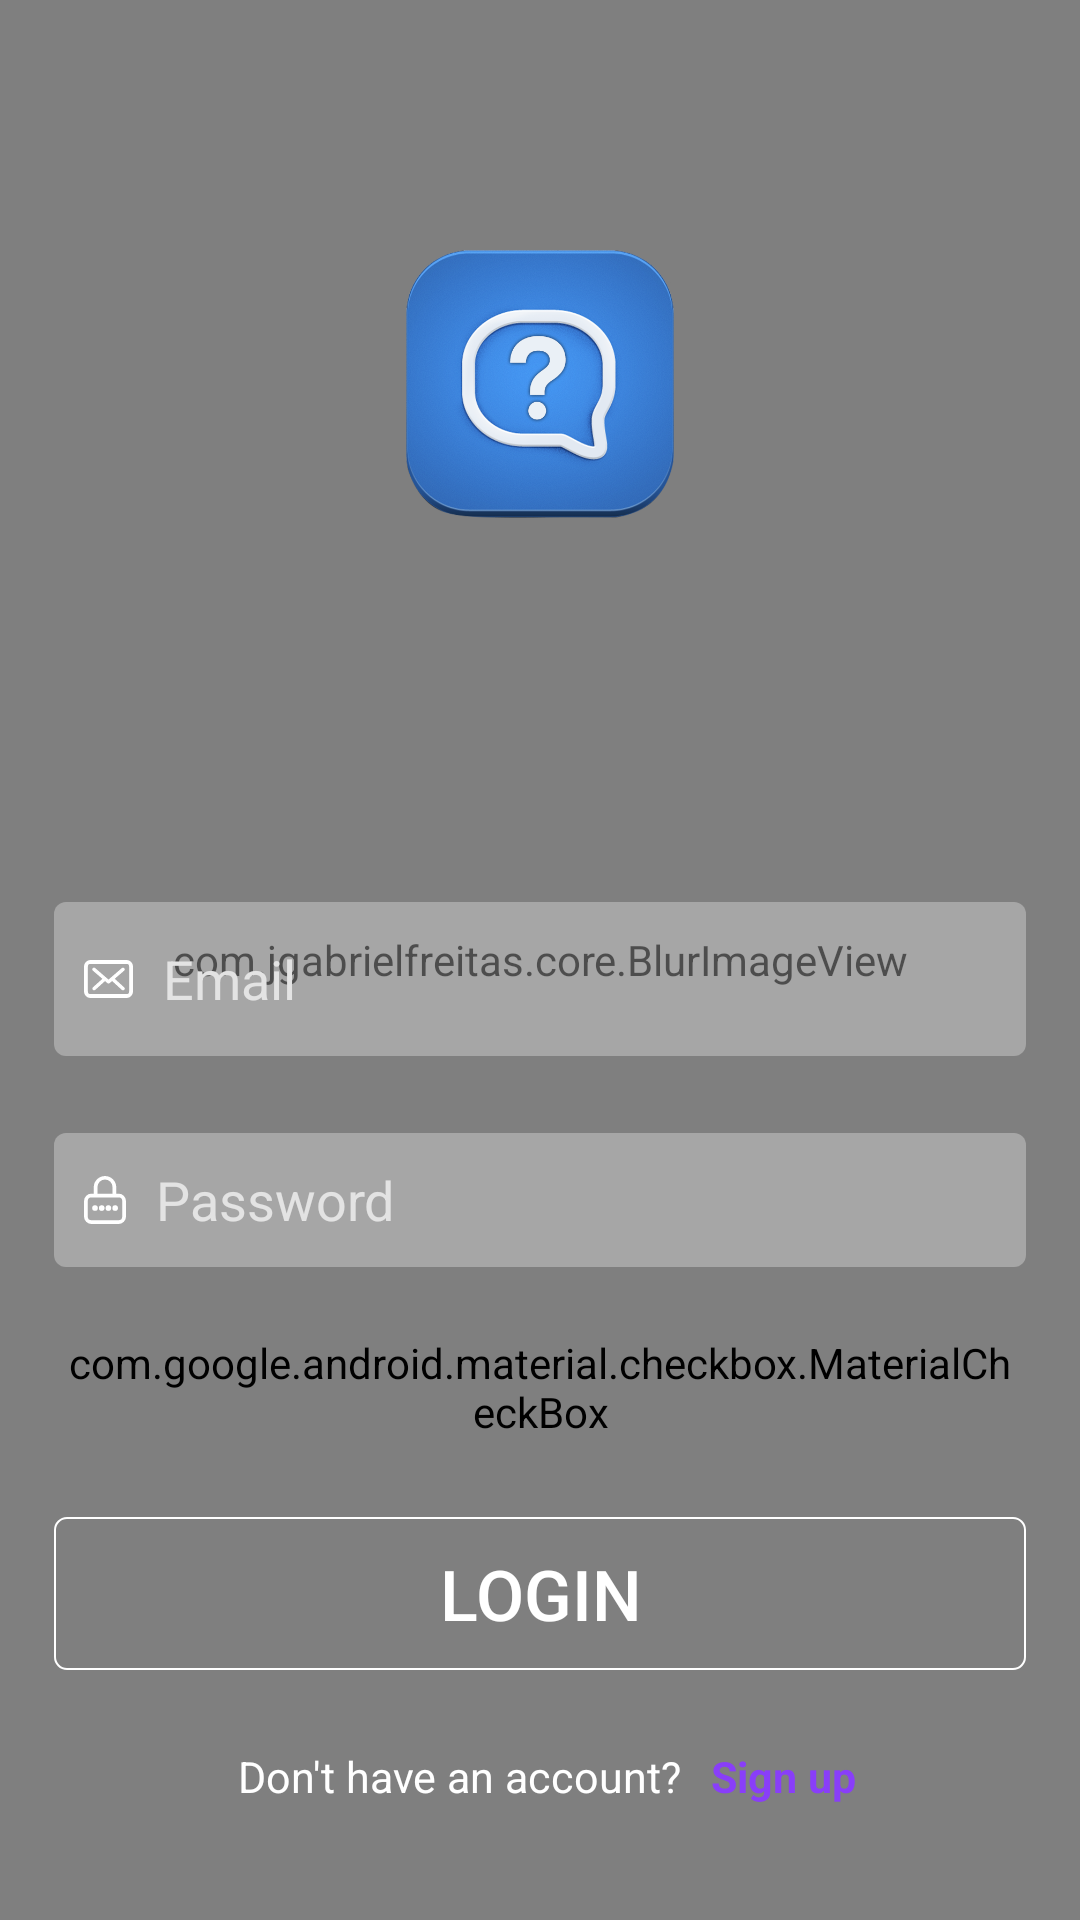

Point at icon controls on the screen. Image size 1080px×1920px, points as (x=x, y=y).
app: (x=540, y=384)
